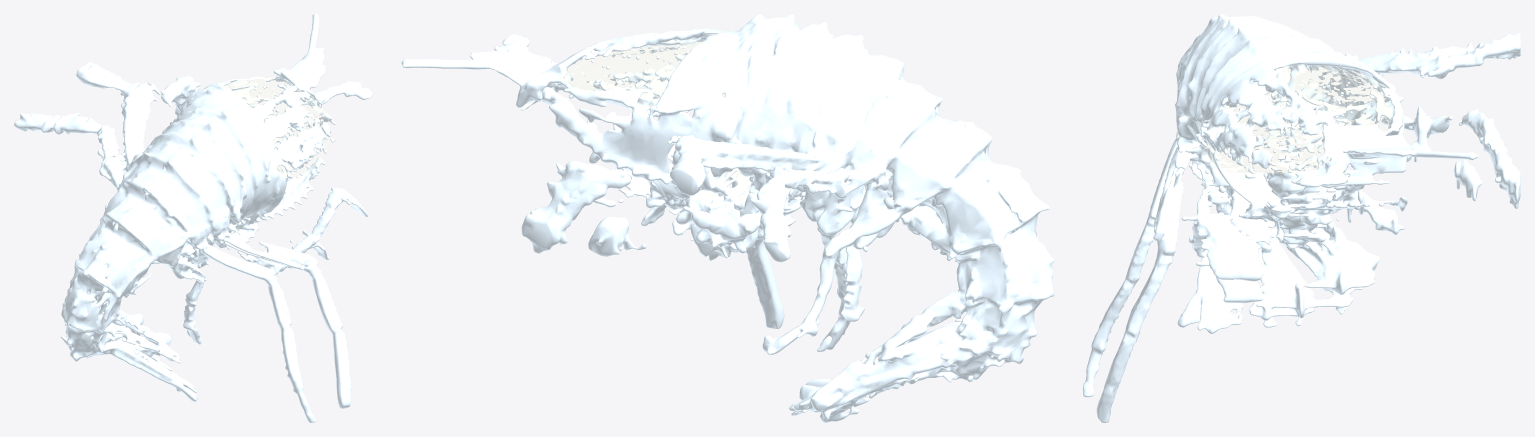
Rendered from amphipod-optimized.glb.
The picture shows the model from 3 angles, left to right: view 1: azimuth 30°, elevation 25°; view 2: azimuth 150°, elevation 25°; view 3: azimuth 270°, elevation 25°; orthographic projection. The views are drawn at different scales.
Visible parts, largest first — view 1: exoskeleton_Poisson_1; view 2: exoskeleton_Poisson_1, broodsac_cecum_Poisson_0; view 3: exoskeleton_Poisson_1.
Part boxes in pixels (box(x1,y1,x2,y2)): exoskeleton_Poisson_1: box(14, 14, 372, 422); exoskeleton_Poisson_1: box(401, 14, 1054, 422); broodsac_cecum_Poisson_0: box(701, 168, 768, 202); exoskeleton_Poisson_1: box(1083, 14, 1520, 422).
Size of what is drawn, in the model's own units: 57.68 by 42.48 by 47.79.
